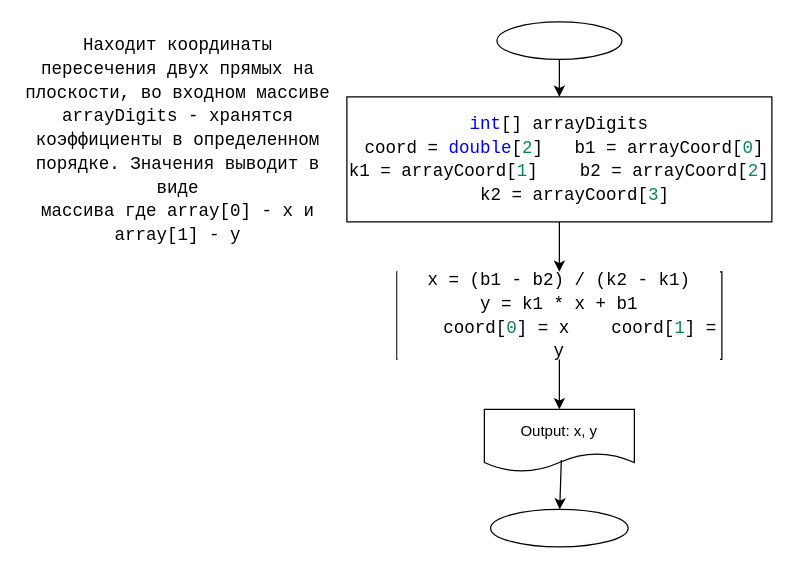
Image size: 794x569. Some labels were removed from this diagram. Here are the shapes that lost their labels. From the top down, the centre of each, then its label:
[559,40]: Start
[558,527]: End
